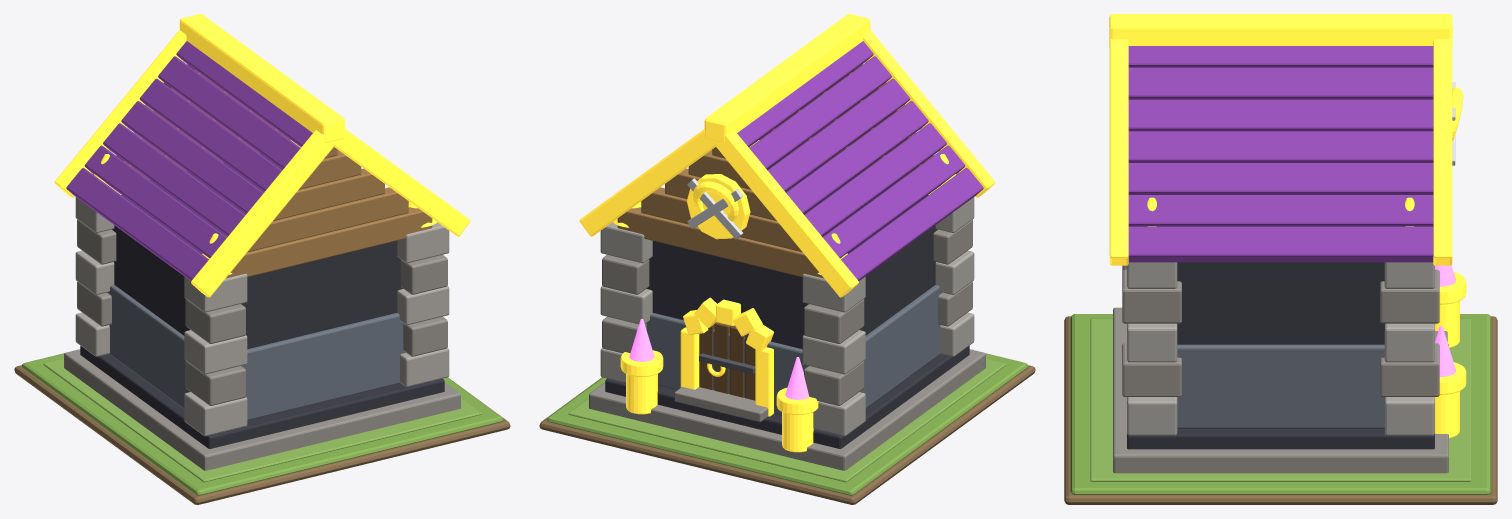
The model's file is hero_hall_lv7.glb.
3 renders of one model, left to right at view 1: azimuth 30°, elevation 25°; view 2: azimuth 150°, elevation 25°; view 3: azimuth 270°, elevation 25°, orthographic. The views are drawn at different scales.
Visible parts, largest first — view 1: HeroStoneWainscot, HeroHallCore, HeroPlinth1, Base_Grass, HeroPlinth2, RidgeBeam, Base_Inner, Base_Dirt, Bargeboard_-1_-1, Gable_-1_0, RoofSlope_-1_4, RoofSlope_-1_6 (+25 smaller); view 2: HeroHallCore, HeroStoneWainscot, HeroPlinth1, Base_Grass, RidgeBeam, Base_Inner, Base_Dirt, Bargeboard_1_-1, Gable_1_0, RoofSlope_-1_4, RoofSlope_-1_6, RoofSlope_-1_2 (+40 smaller); view 3: HeroStoneWainscot, HeroHallCore, Base_Grass, RoofSlope_1_6, RidgeBeam, HeroPlinth1, RoofSlope_1_1, RoofSlope_1_2, RoofSlope_1_3, RoofSlope_1_4, RoofSlope_1_5, Base_Inner (+20 smaller).
Part boxes in pixels (<box>): HeroStoneWainscot: <box>107,285,405,420</box>; HeroHallCore: <box>112,153,403,349</box>; HeroPlinth1: <box>64,349,460,470</box>; Base_Grass: <box>22,353,502,495</box>; HeroPlinth2: <box>80,346,444,448</box>; RidgeBeam: <box>179,14,345,142</box>; Base_Inner: <box>43,358,481,482</box>; Base_Dirt: <box>14,365,510,504</box>; Bargeboard_-1_-1: <box>191,130,338,297</box>; Gable_-1_0: <box>226,207,432,278</box>; RoofSlope_-1_4: <box>103,123,245,236</box>; RoofSlope_-1_6: <box>66,168,208,280</box>; HeroHallCore: <box>646,153,937,349</box>; HeroStoneWainscot: <box>646,285,942,415</box>; HeroPlinth1: <box>589,349,985,470</box>; Base_Grass: <box>547,353,1027,495</box>; RidgeBeam: <box>704,14,870,142</box>; Base_Inner: <box>568,358,1006,482</box>; Base_Dirt: <box>539,365,1035,504</box>; Bargeboard_1_-1: <box>712,130,858,297</box>; Gable_1_0: <box>617,207,823,278</box>; RoofSlope_-1_4: <box>804,123,946,236</box>; RoofSlope_-1_6: <box>841,168,983,280</box>; RoofSlope_-1_2: <box>767,78,910,191</box>; HeroStoneWainscot: <box>1177,344,1384,428</box>; HeroHallCore: <box>1177,262,1384,344</box>; Base_Grass: <box>1070,314,1491,494</box>; RoofSlope_1_6: <box>1128,226,1433,262</box>; RidgeBeam: <box>1109,14,1452,47</box>; HeroPlinth1: <box>1113,307,1448,473</box>; RoofSlope_1_1: <box>1128,67,1433,99</box>; RoofSlope_1_2: <box>1128,99,1433,131</box>; RoofSlope_1_3: <box>1128,131,1433,162</box>; RoofSlope_1_4: <box>1128,163,1433,194</box>; RoofSlope_1_5: <box>1128,195,1433,226</box>; Base_Inner: <box>1090,318,1471,481</box>.
Bounding box in the file's own units: 2.76 × 2.78 × 2.76.
